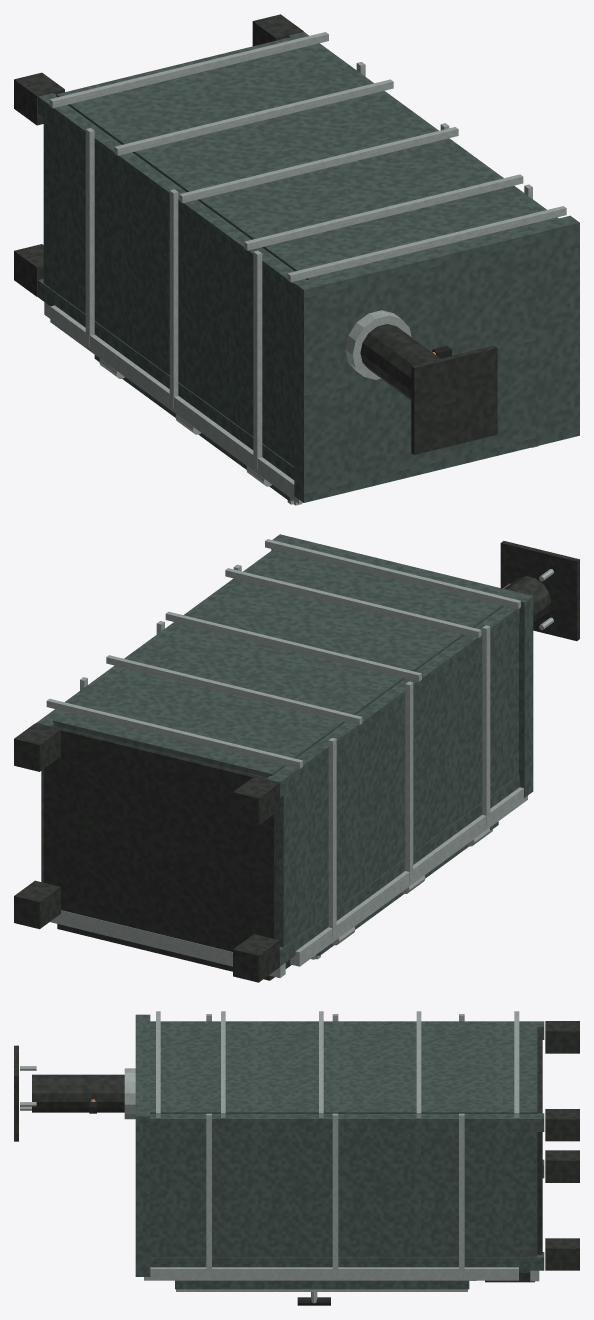
The model's file is PROJECT_Z_MR26_Metal_Smokehouse.glb.
The picture shows the model from 3 angles, top to bottom: view 1: azimuth 30°, elevation 25°; view 2: azimuth 150°, elevation 25°; view 3: azimuth 270°, elevation 25°; orthographic projection. The views are drawn at different scales.
Parts seen in each view (by area): view 1: SMOKEHOUSE_MR26_R_Top_Cover, SMOKEHOUSE_MR26_R_Back_Shell, SMOKEHOUSE_MR26_R_Left_Shell, SMOKEHOUSE_MR26_R_Flue_Rain_Cap, SMOKEHOUSE_MR26_R_Upright_-1_+1, SMOKEHOUSE_MR26_R_Front_Jamb_-0.566, SMOKEHOUSE_MR26_R_Upright_-1_-1, SMOKEHOUSE_MR26_R_Flue_Pipe, SMOKEHOUSE_MR26_R_Back_Rib_0.79, SMOKEHOUSE_MR26_R_Back_Rib_1.27, SMOKEHOUSE_MR26_R_Back_Rib_1.75, SMOKEHOUSE_MR26_R_Back_Rib_2.07 (+9 smaller); view 2: SMOKEHOUSE_MR26_R_Back_Shell, SMOKEHOUSE_MR26_R_Base_Pan, SMOKEHOUSE_MR26_R_Left_Shell, SMOKEHOUSE_MR26_R_Upright_-1_+1, SMOKEHOUSE_MR26_R_Top_Cover, SMOKEHOUSE_MR26_R_Flue_Rain_Cap, SMOKEHOUSE_MR26_R_Front_Jamb_-0.566, SMOKEHOUSE_MR26_R_Upright_-1_-1, SMOKEHOUSE_MR26_R_Front_Sill, SMOKEHOUSE_MR26_R_Back_Rib_0.31, SMOKEHOUSE_MR26_R_Back_Rib_0.79, SMOKEHOUSE_MR26_R_Back_Rib_1.27 (+12 smaller); view 3: SMOKEHOUSE_MR26_R_Right_Shell, SMOKEHOUSE_MR26_R_Back_Shell, SMOKEHOUSE_MR26_R_Upright_+1_+1, SMOKEHOUSE_MR26_R_Front_Jamb_+0.566, SMOKEHOUSE_MR26_R_Upright_+1_-1, SMOKEHOUSE_MR26_R_Top_Cover, SMOKEHOUSE_MR26_R_Flue_Pipe, SMOKEHOUSE_MR26_R_Door_Slab, SMOKEHOUSE_MR26_R_Upright_-1_+1, SMOKEHOUSE_MR26_R_Base_Pan, SMOKEHOUSE_MR26_R_Foot_-1_-1, SMOKEHOUSE_MR26_R_Foot_-1_+1 (+13 smaller).
Boxes of the visible parts, box(x1,y1,x2,y2) form: SMOKEHOUSE_MR26_R_Top_Cover: box(294, 215, 579, 502); SMOKEHOUSE_MR26_R_Back_Shell: box(56, 36, 547, 279); SMOKEHOUSE_MR26_R_Left_Shell: box(43, 118, 294, 466); SMOKEHOUSE_MR26_R_Flue_Rain_Cap: box(411, 345, 497, 454); SMOKEHOUSE_MR26_R_Upright_-1_+1: box(38, 93, 306, 300); SMOKEHOUSE_MR26_R_Front_Jamb_-0.566: box(50, 305, 303, 503); SMOKEHOUSE_MR26_R_Upright_-1_-1: box(38, 279, 294, 479); SMOKEHOUSE_MR26_R_Flue_Pipe: box(360, 324, 440, 399); SMOKEHOUSE_MR26_R_Back_Rib_0.79: box(114, 79, 393, 155); SMOKEHOUSE_MR26_R_Back_Rib_1.27: box(179, 127, 458, 203); SMOKEHOUSE_MR26_R_Back_Rib_1.75: box(244, 174, 523, 250); SMOKEHOUSE_MR26_R_Back_Rib_2.07: box(287, 206, 566, 282); SMOKEHOUSE_MR26_R_Back_Shell: box(53, 552, 503, 777); SMOKEHOUSE_MR26_R_Base_Pan: box(44, 725, 277, 951); SMOKEHOUSE_MR26_R_Left_Shell: box(277, 623, 518, 947); SMOKEHOUSE_MR26_R_Upright_-1_+1: box(266, 606, 519, 797); SMOKEHOUSE_MR26_R_Top_Cover: box(271, 534, 533, 797); SMOKEHOUSE_MR26_R_Flue_Rain_Cap: box(500, 541, 579, 640); SMOKEHOUSE_MR26_R_Front_Jamb_-0.566: box(290, 787, 527, 966); SMOKEHOUSE_MR26_R_Upright_-1_-1: box(279, 775, 519, 966); SMOKEHOUSE_MR26_R_Front_Sill: box(50, 910, 285, 977); SMOKEHOUSE_MR26_R_Back_Rib_0.31: box(46, 698, 302, 768); SMOKEHOUSE_MR26_R_Back_Rib_0.79: box(106, 655, 362, 725); SMOKEHOUSE_MR26_R_Back_Rib_1.27: box(165, 611, 421, 681); SMOKEHOUSE_MR26_R_Right_Shell: box(150, 1132, 537, 1257); SMOKEHOUSE_MR26_R_Back_Shell: box(150, 1024, 537, 1113); SMOKEHOUSE_MR26_R_Upright_+1_+1: box(150, 1113, 544, 1131); SMOKEHOUSE_MR26_R_Front_Jamb_+0.566: box(144, 1267, 518, 1280); SMOKEHOUSE_MR26_R_Upright_+1_-1: box(150, 1252, 544, 1270); SMOKEHOUSE_MR26_R_Top_Cover: box(135, 1014, 150, 1276); SMOKEHOUSE_MR26_R_Flue_Pipe: box(32, 1074, 124, 1112); SMOKEHOUSE_MR26_R_Door_Slab: box(175, 1280, 469, 1289); SMOKEHOUSE_MR26_R_Upright_-1_+1: box(150, 1021, 544, 1039); SMOKEHOUSE_MR26_R_Base_Pan: box(537, 1028, 542, 1254); SMOKEHOUSE_MR26_R_Foot_-1_-1: box(545, 1150, 579, 1182); SMOKEHOUSE_MR26_R_Foot_-1_+1: box(545, 1021, 579, 1053).
Bounding box in the file's own units: 1.18 × 1.13 × 2.78.
Materials: 6 (6 with a texture image).
